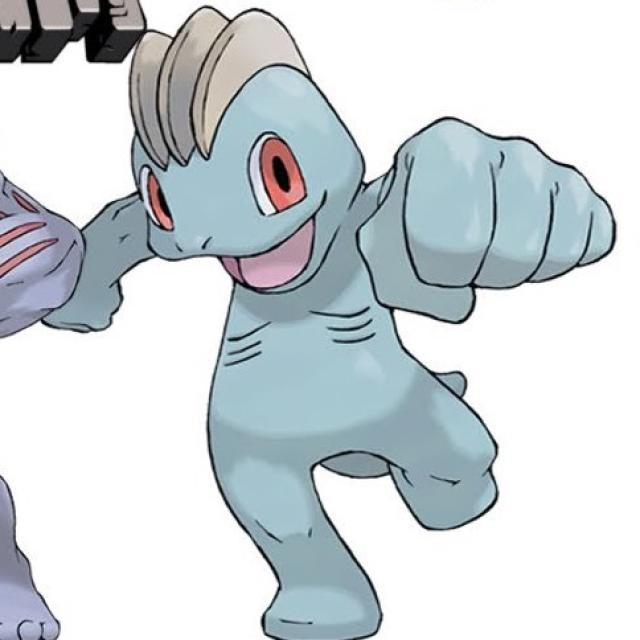Machop: (88, 2, 527, 631)
